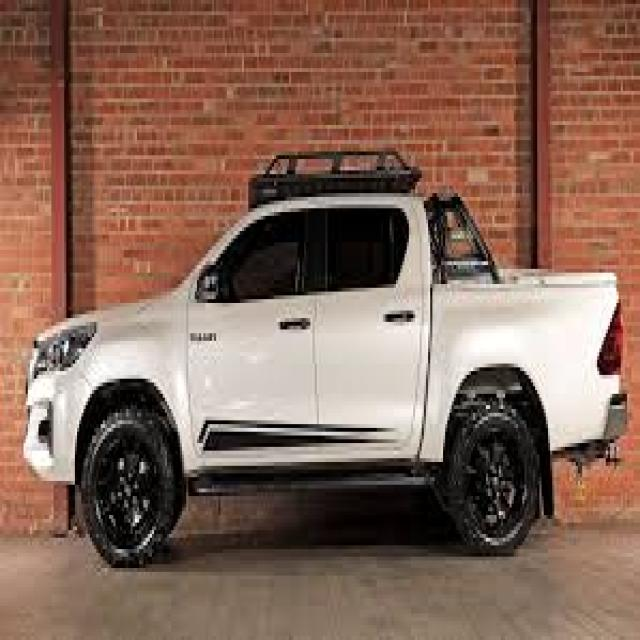Pickup Trucks: (24, 163, 625, 572)
